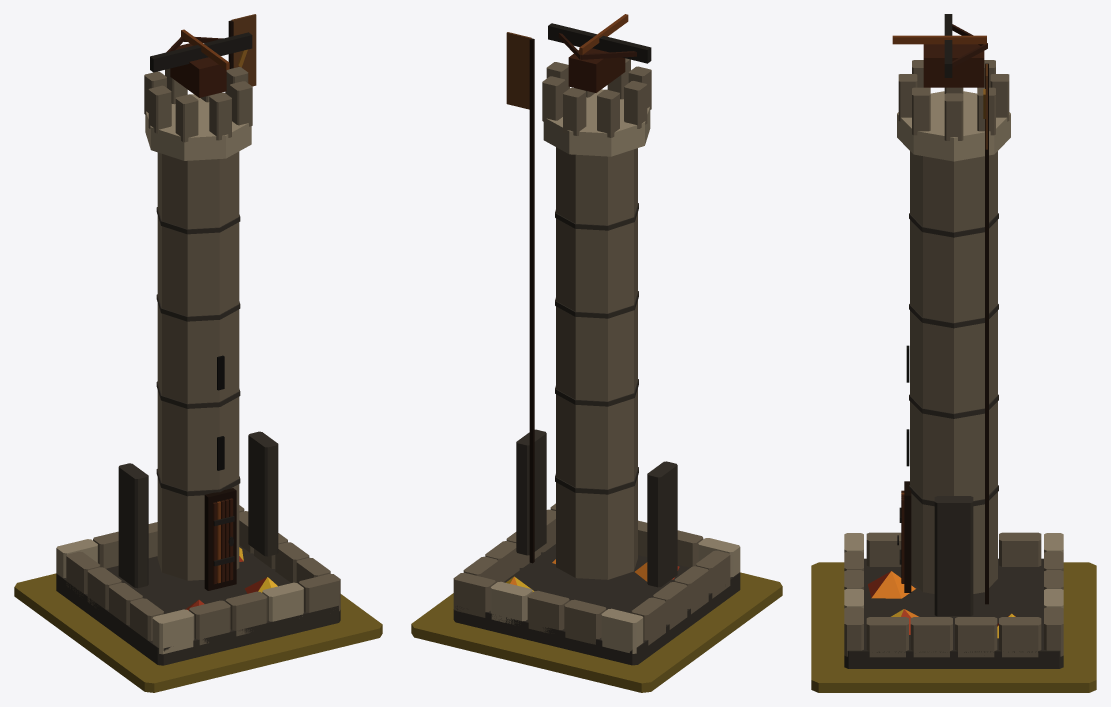
The model's file is ballista_t6.glb.
The picture shows the model from 3 angles, left to right: view 1: azimuth 30°, elevation 25°; view 2: azimuth 150°, elevation 25°; view 3: azimuth 270°, elevation 25°; orthographic projection. The views are drawn at different scales.
Visible parts, largest first — view 1: MMR | ballista | T06 Architecture.001, MMR | ballista | Tier 06 Ground.001, MMR | ballista | T06 Banner Flag 1.001; view 2: MMR | ballista | T06 Architecture.001, MMR | ballista | Tier 06 Ground.001, MMR | ballista | T06 Banner Flag 1.001; view 3: MMR | ballista | T06 Architecture.001, MMR | ballista | Tier 06 Ground.001, MMR | ballista | T06 Autumn Dressing.001.
Part boxes in pixels (<box>): MMR | ballista | T06 Architecture.001: <box>56,20,340,665</box>; MMR | ballista | Tier 06 Ground.001: <box>14,573,382,692</box>; MMR | ballista | T06 Banner Flag 1.001: <box>231,14,256,86</box>; MMR | ballista | T06 Architecture.001: <box>453,14,740,665</box>; MMR | ballista | Tier 06 Ground.001: <box>411,572,782,692</box>; MMR | ballista | T06 Banner Flag 1.001: <box>506,32,531,109</box>; MMR | ballista | T06 Architecture.001: <box>844,14,1063,668</box>; MMR | ballista | Tier 06 Ground.001: <box>811,562,1096,692</box>; MMR | ballista | T06 Autumn Dressing.001: <box>868,571,1015,638</box>.
Bounding box in the file's own units: 1.3 × 3 × 1.3.
1 material, 1 textured.
